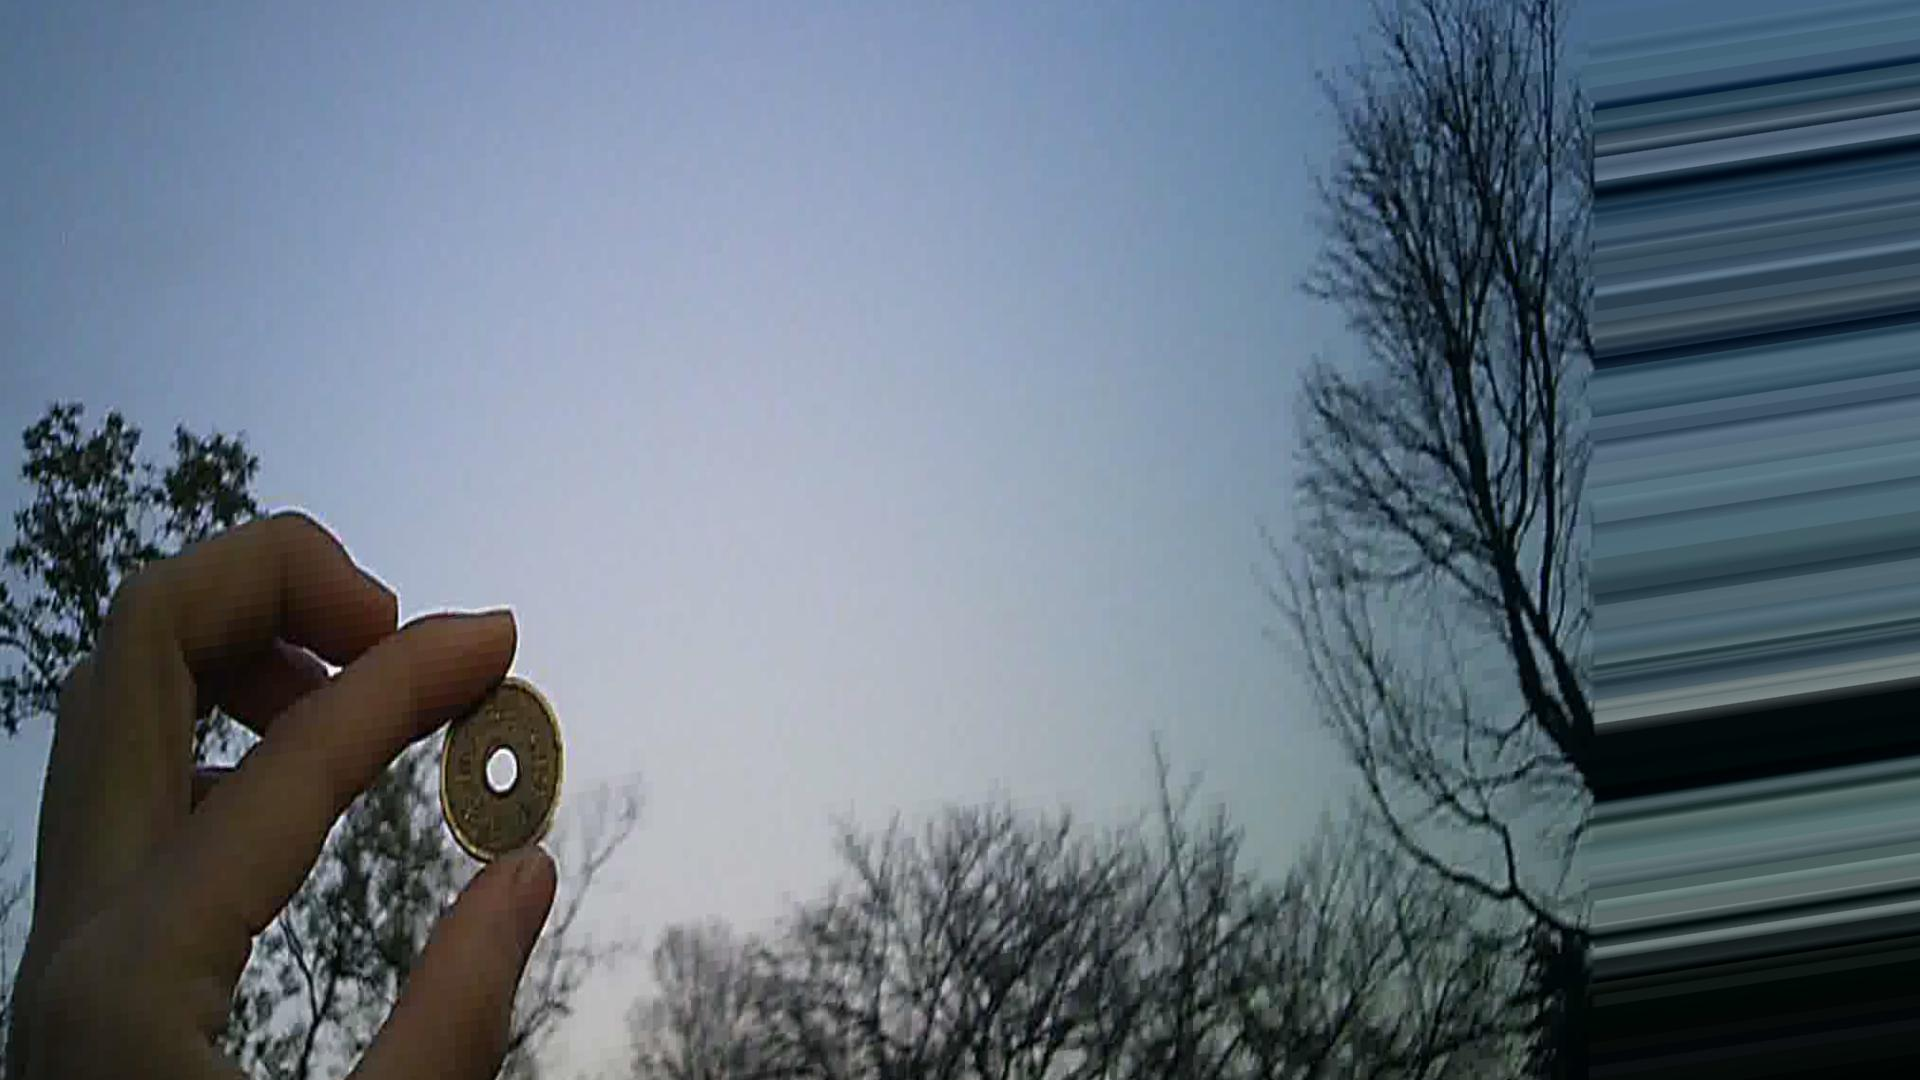5 Yen: (430, 673, 562, 864)
